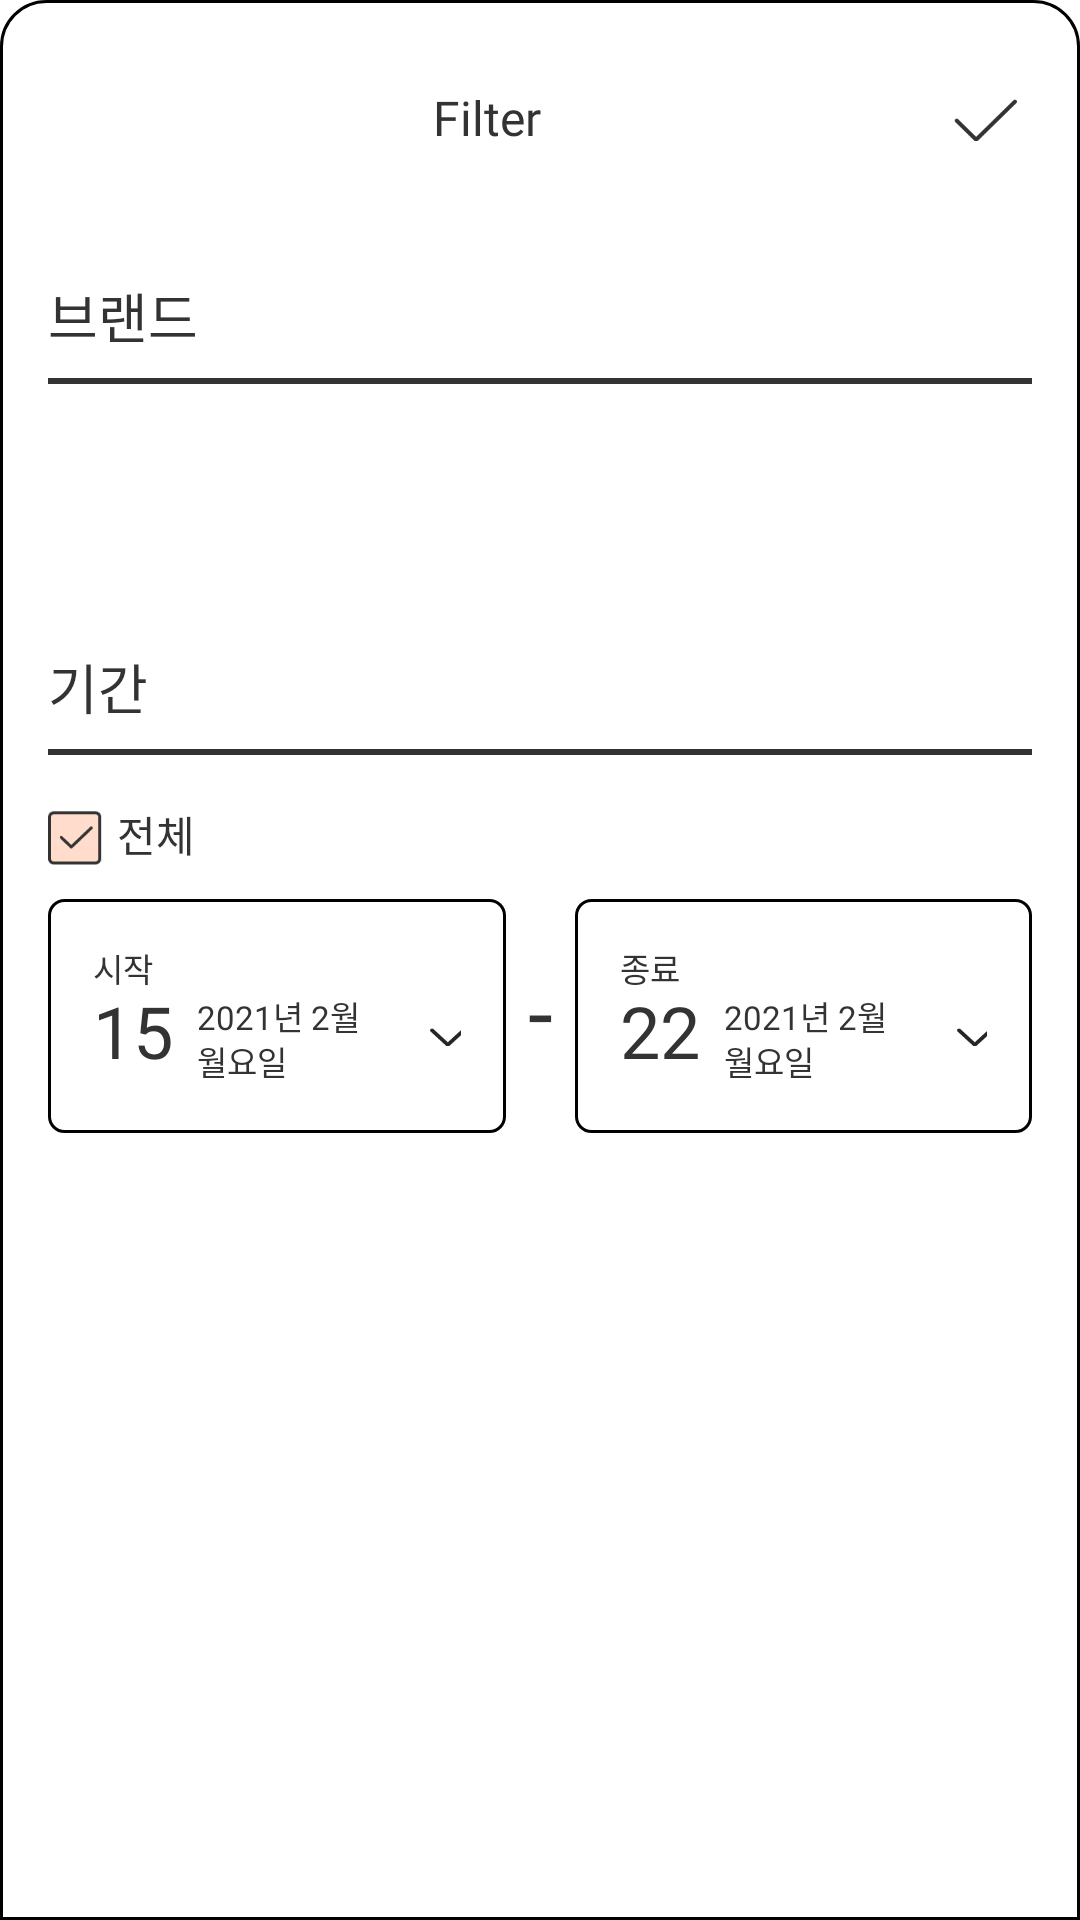

Named icons in this screenshot (1080 x 1920) and their centers, point (x, y):
square check: point (75, 838)
